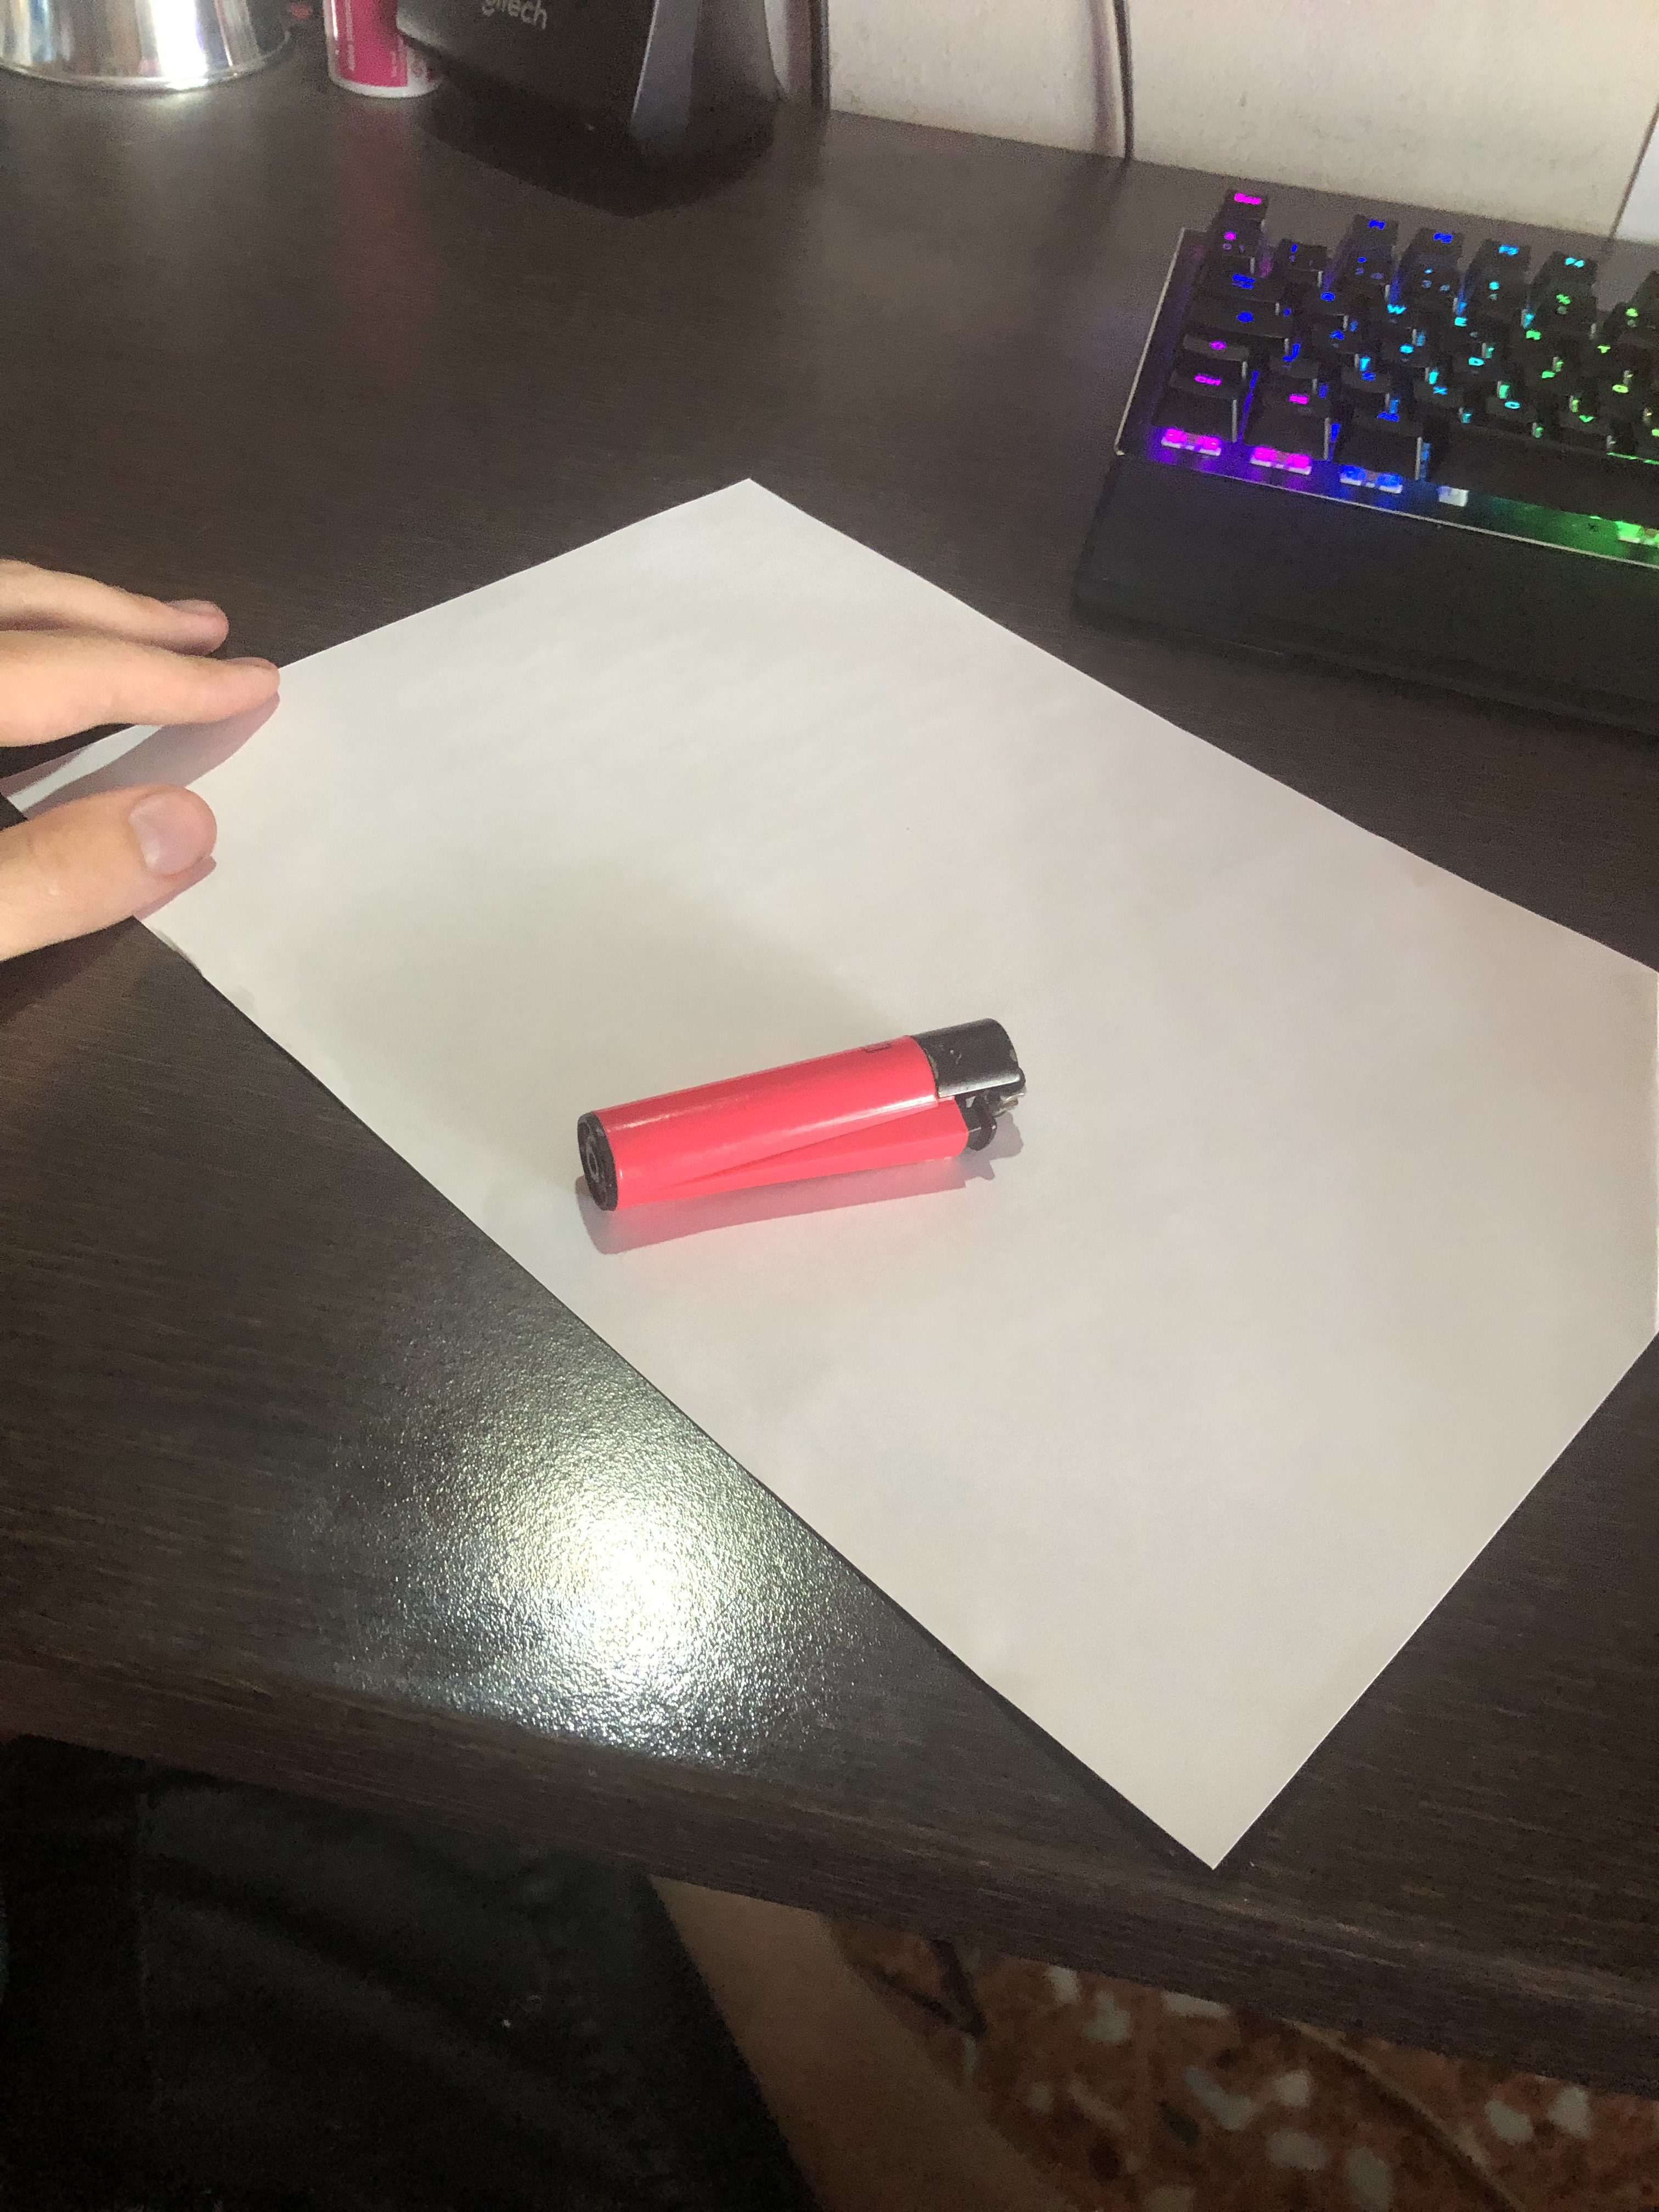Mechero: (540, 1015, 1061, 1242)
